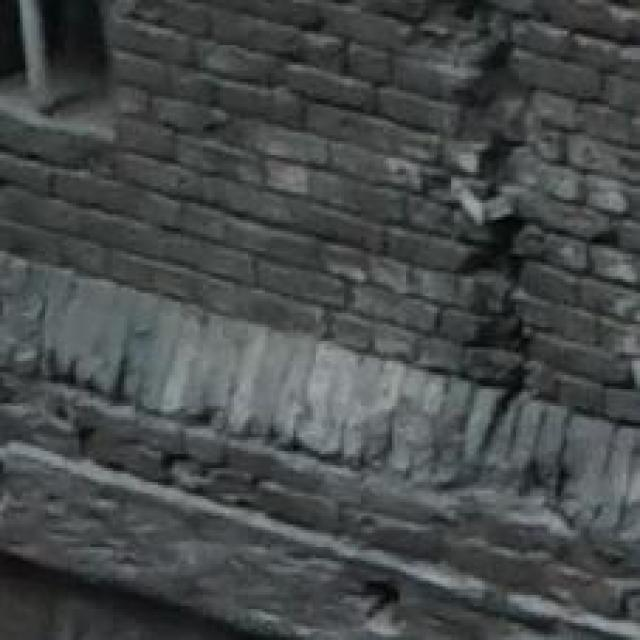Crack: (415, 7, 565, 425)
